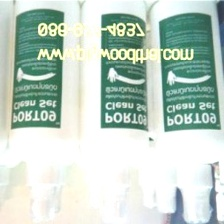cleaning_solution: (5, 0, 86, 224), (146, 0, 224, 223), (76, 0, 154, 220)
